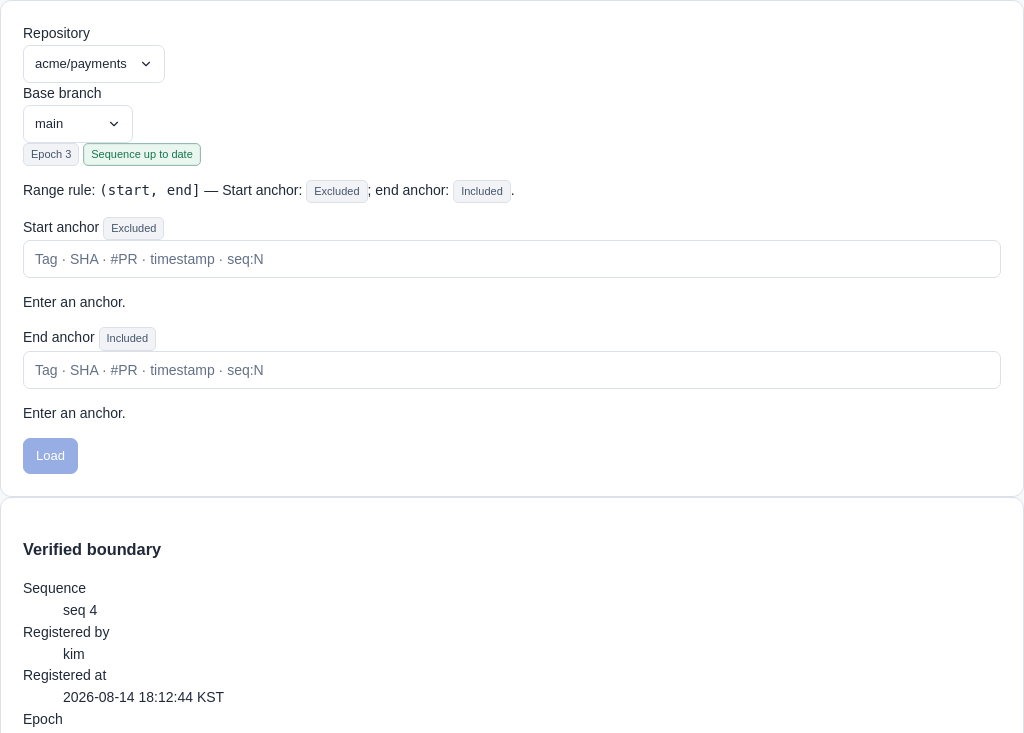
Scenario: 조회 전 사전 판정 (QA-W004-07·08·09) › **역전이면 조회가 비활성이고 교환 제안이 뜬다**
Type "seq:10" into the field with test id "anchor-from-input" at (512, 259), box [35, 241, 989, 277]
Then press Enter
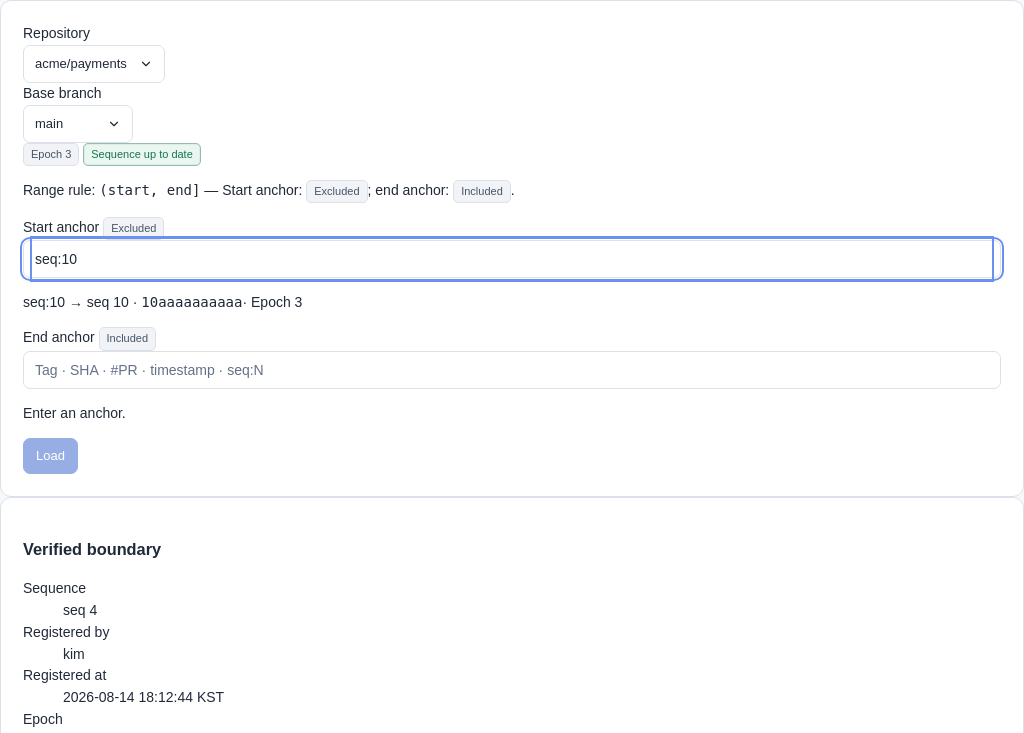
Type "seq:3" into the field with test id "anchor-to-input" at (512, 370), box [35, 352, 989, 388]
Then press Enter
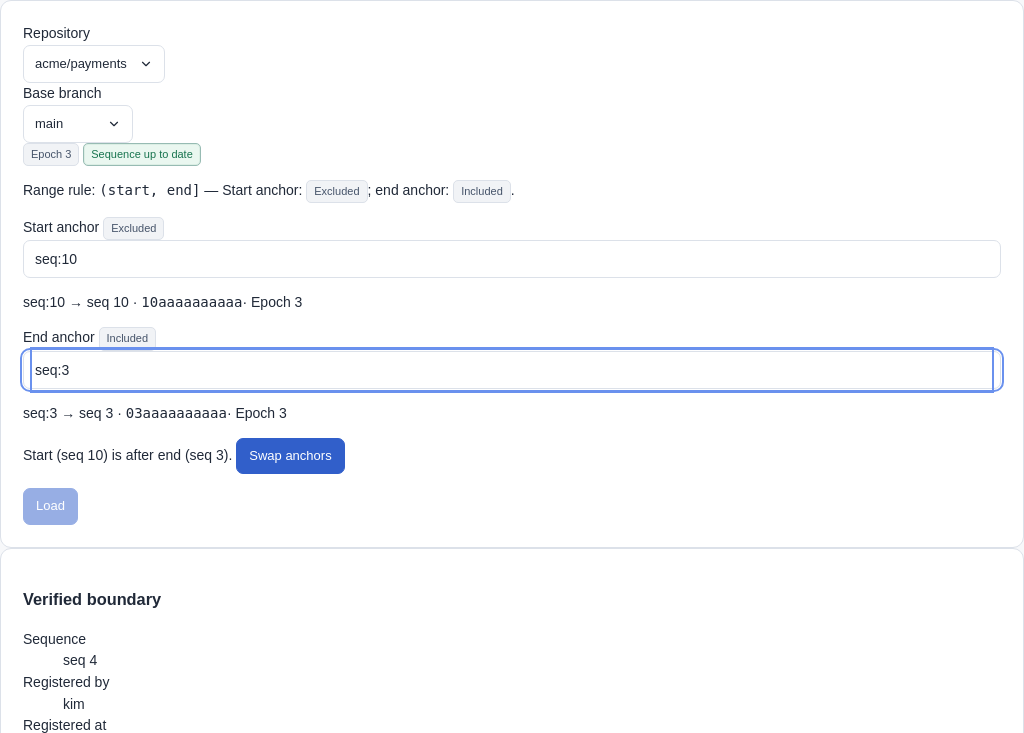
Expected: the button with test id "range-query" is disabled, [23, 488, 78, 524]
Result: the message "Start (seq 10) is after end (seq 3). Swap anchors" is shown at [23, 438, 345, 474]
Click the button with test id "range-swap" at (290, 456), box [236, 438, 345, 474]
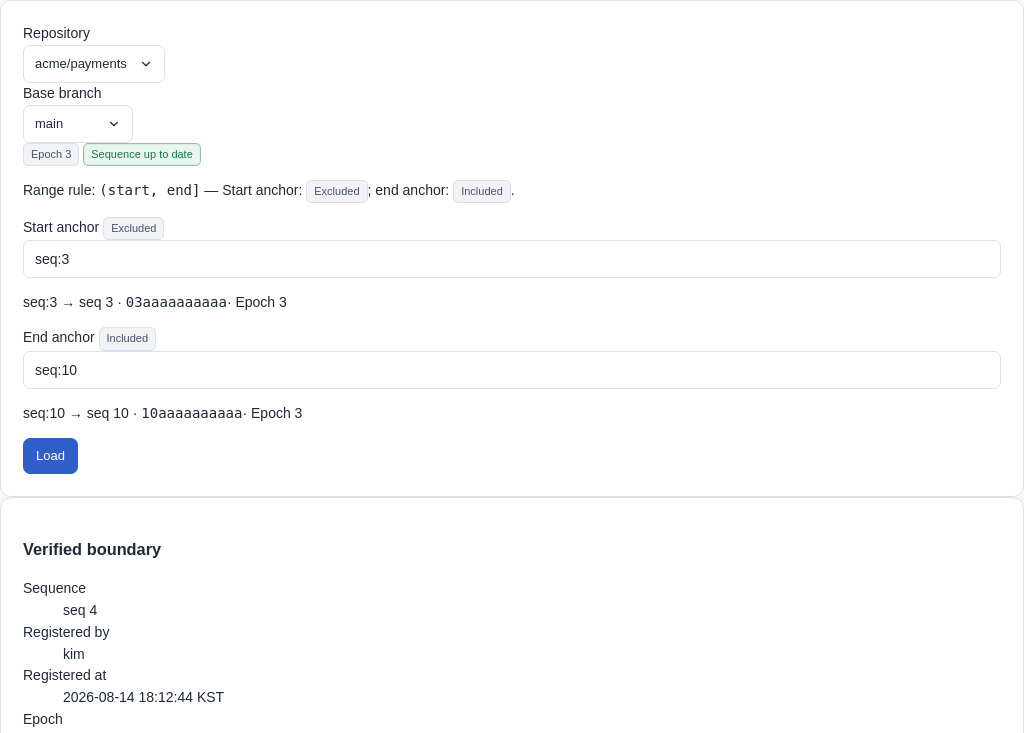
Result: the field with test id "anchor-from-input" holds "seq:3" at [35, 241, 989, 277]
Result: the field with test id "anchor-to-input" holds "seq:10" at [35, 352, 989, 388]
Result: the button with test id "range-query" is enabled at [23, 438, 78, 474]
